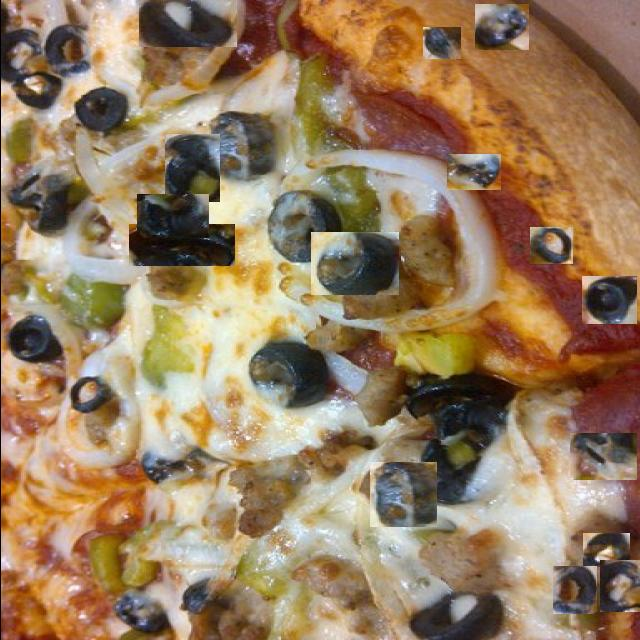olive: (310, 232, 398, 295), (303, 377, 373, 450), (138, 0, 236, 47), (128, 224, 234, 266), (369, 462, 436, 527), (164, 134, 219, 202), (569, 434, 636, 482), (136, 194, 208, 238), (556, 409, 619, 458), (581, 276, 636, 324), (474, 5, 528, 50), (514, 510, 566, 552), (599, 560, 640, 612), (552, 566, 596, 614), (446, 154, 500, 190), (582, 533, 629, 567), (529, 227, 572, 264), (422, 27, 460, 59)
pizza: (0, 0, 640, 640)
